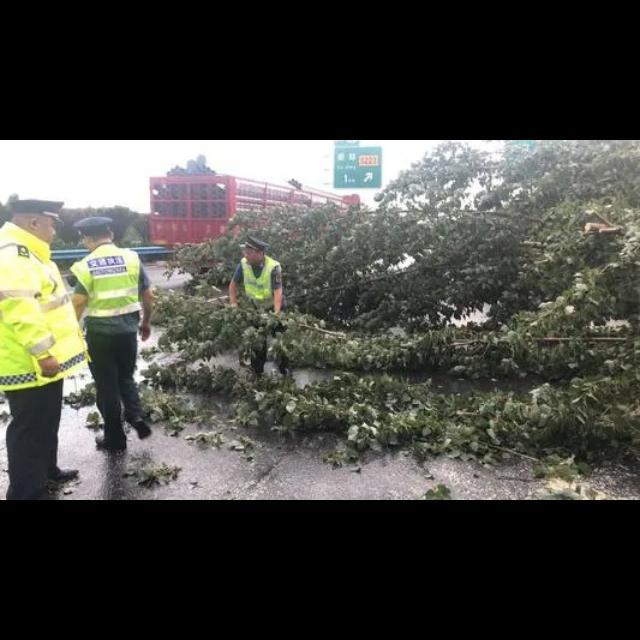fallen_tree: (139, 144, 639, 452)
